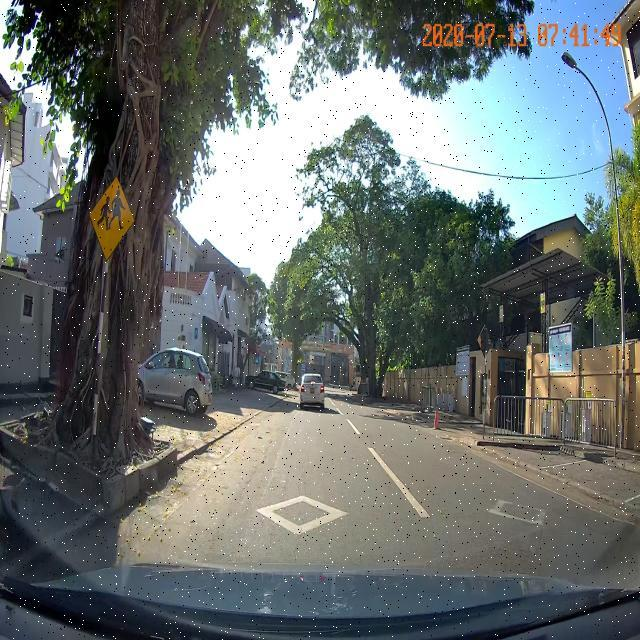diamond: (130, 466, 449, 545)
